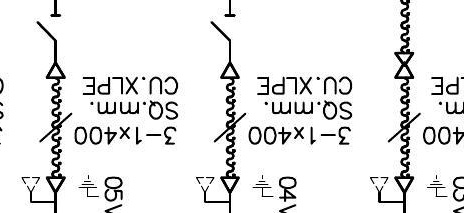terminator_single: (45, 62, 67, 80), (219, 62, 241, 80)
terminator_splicing_kits: (394, 52, 415, 80)
terminator_w_future: (368, 175, 415, 205), (21, 175, 68, 205), (194, 176, 241, 205)
